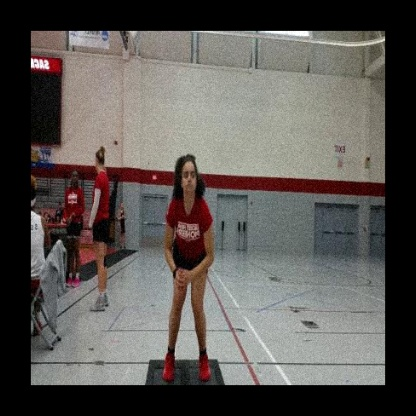lateral_flexion_left: (158, 149, 217, 385)
stance_width_normal: (159, 191, 217, 385)
